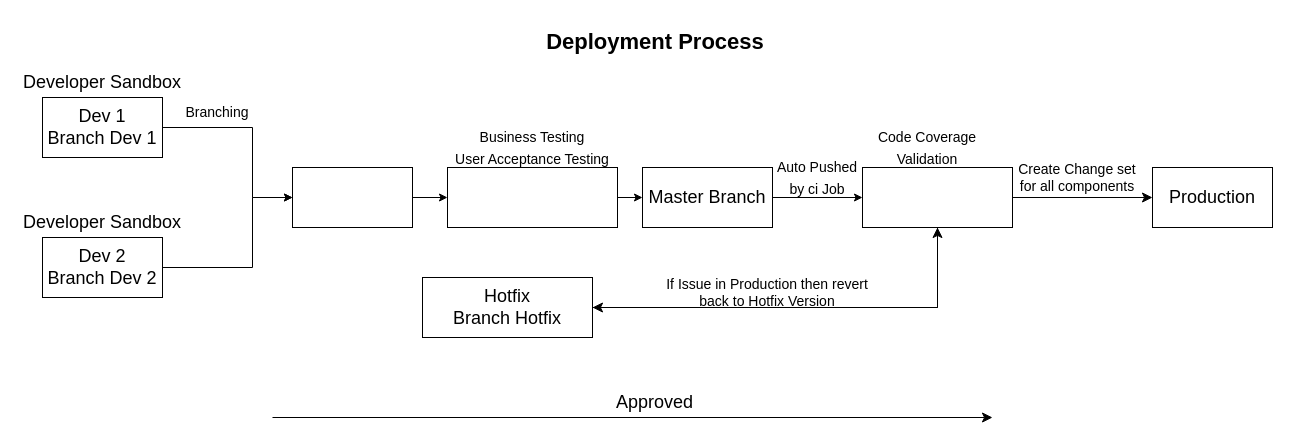
The diagram is 1290 pixels wide and 445 high, and some of its shapes have lost their labels. Each missing label, with the centre of its shape:
Branch UAT: point (352, 197)
STAG Staging Process: point (937, 197)
UAT Sandbox: point (532, 197)
